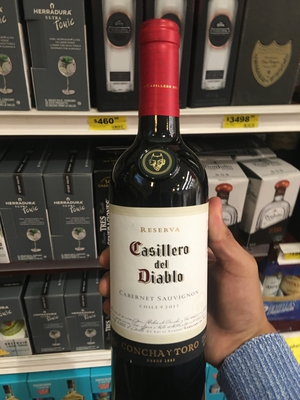casillero del diablo cabernet sauvignon: (95, 29, 223, 400)
